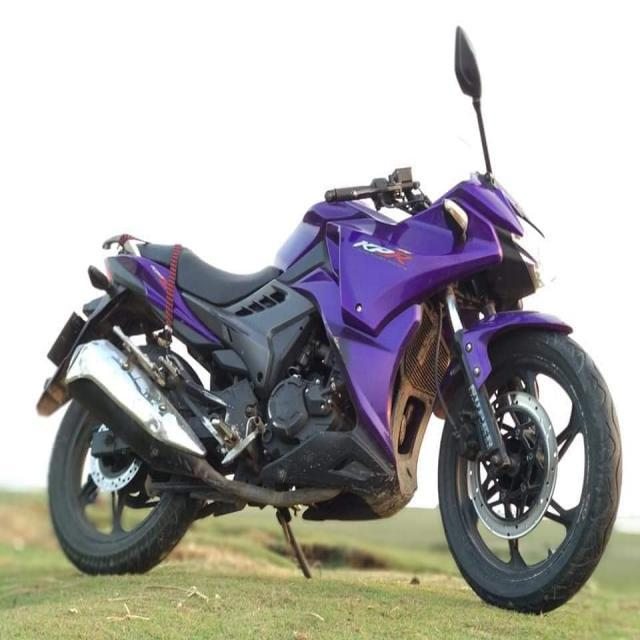Motorbike: (34, 12, 632, 629)
